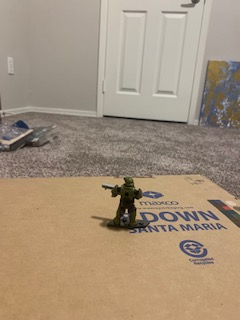soldier: (100, 176, 145, 228)
